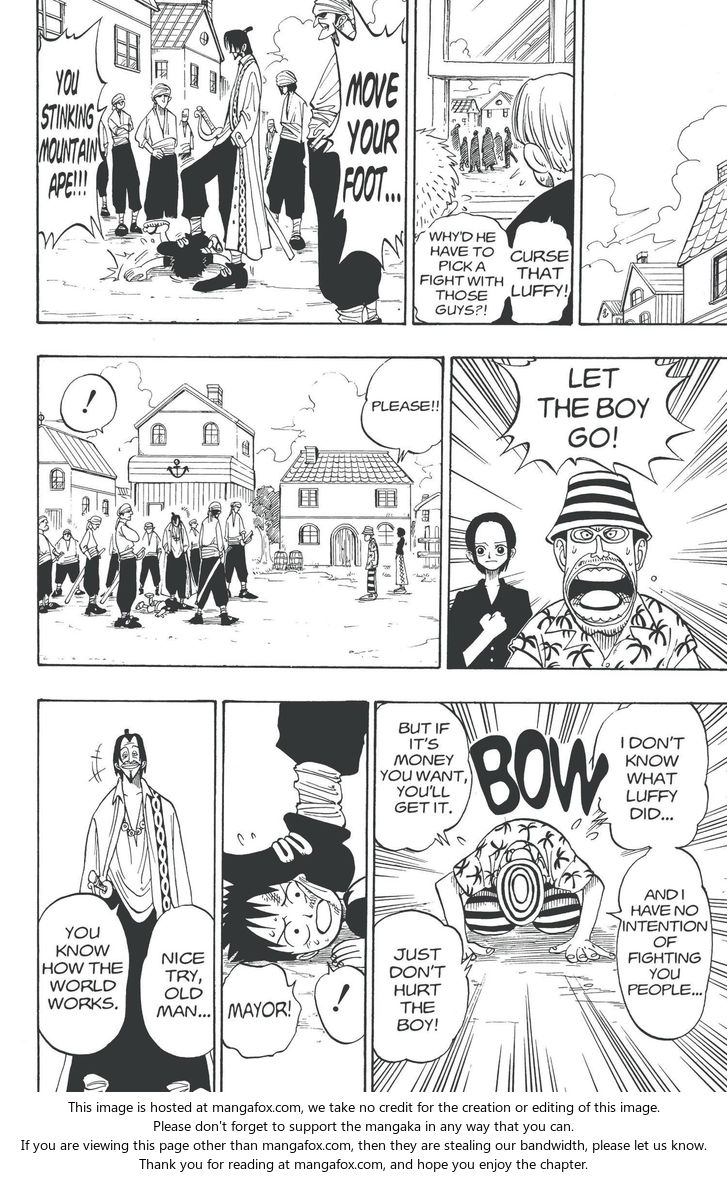bubble: (494, 358, 694, 483), (326, 2, 407, 268), (608, 847, 713, 1040), (593, 703, 709, 850), (38, 16, 107, 249), (373, 911, 473, 1062), (38, 894, 130, 1056), (374, 702, 472, 852), (140, 901, 215, 1057), (413, 212, 510, 323), (360, 357, 443, 462), (222, 962, 302, 1058), (509, 215, 573, 325), (315, 961, 366, 1043), (60, 374, 116, 433)
